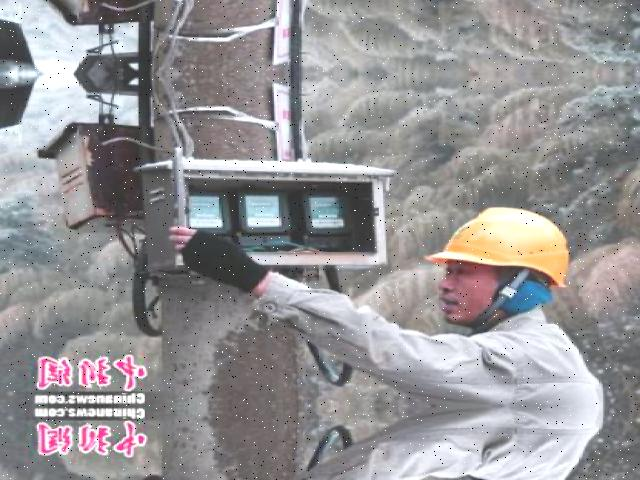Helmet: (423, 202, 578, 296)
